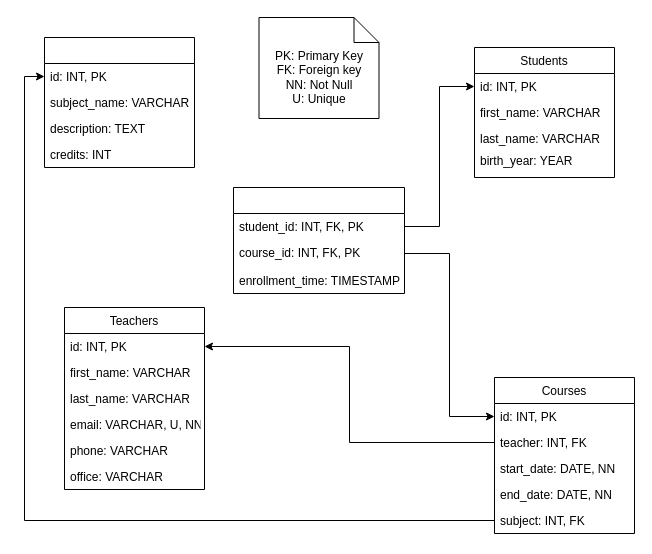
This 652x554 diagram has some shape labels left out. The shapes that lost their labels are listed below. From the top down, each one's box as (x1, y1, x2, y2) in pixels, then its label:
(44, 36, 194, 168): Subjects
(232, 186, 404, 294): Enrollments
